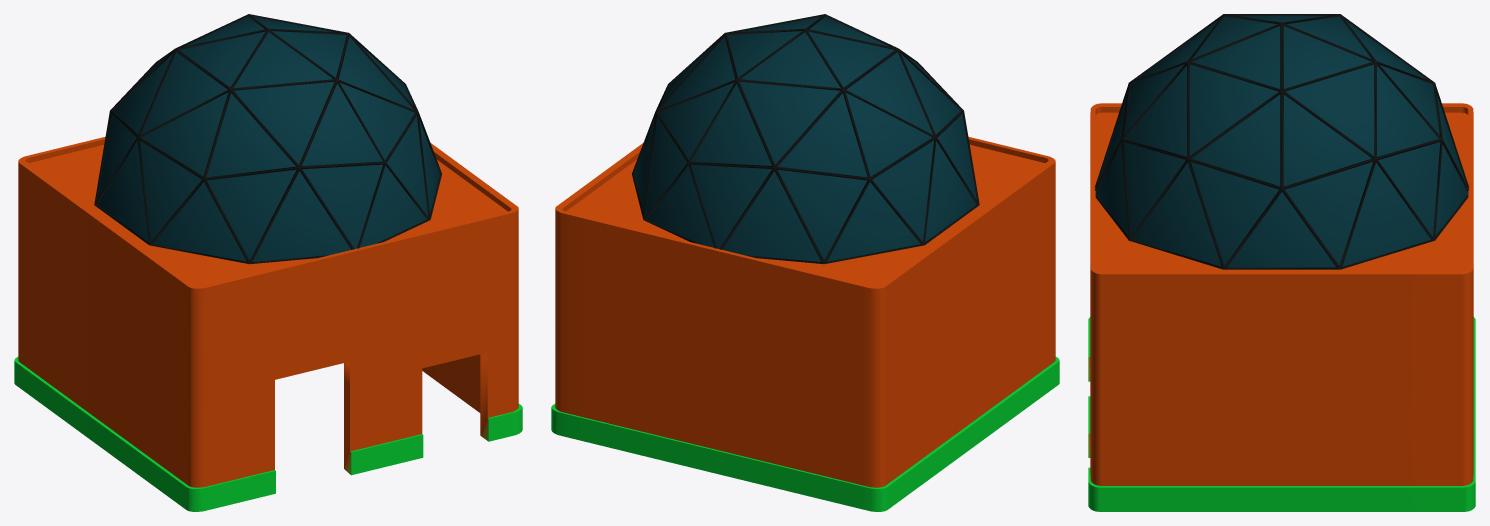
Rendered from Maison_Zone_1.fbx.
3 renders of one model, left to right at view 1: azimuth 30°, elevation 25°; view 2: azimuth 150°, elevation 25°; view 3: azimuth 270°, elevation 25°, orthographic. The views are drawn at different scales.
Parts seen in each view (by area): view 1: Cube.040, Icosphere.001; view 2: Cube.040, Icosphere.001; view 3: Cube.040, Icosphere.001.
Boxes of the visible parts, x1,y1,x2,y2 form: Cube.040: (14, 136, 522, 511); Icosphere.001: (94, 14, 441, 264); Cube.040: (551, 136, 1059, 511); Icosphere.001: (632, 14, 979, 264); Cube.040: (1088, 103, 1475, 511); Icosphere.001: (1094, 14, 1469, 269).
Size of the model in its own units: 721 by 778 by 679.
